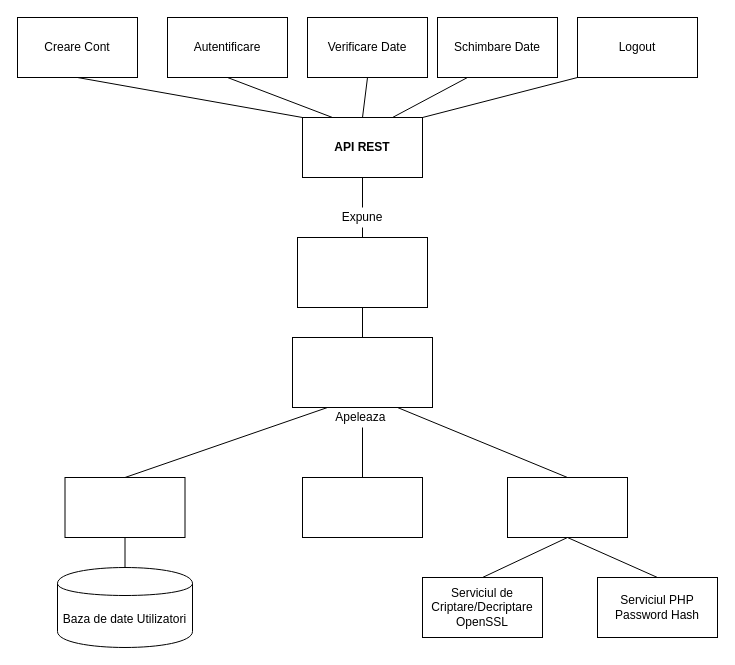
Image size: 735x665. Some labels were removed from this diagram. The centre of each missing label's shape, as x and y in pixels:
AVIAUTH gestioneaza conturi de utilizator: [362,272]
Controller Layer: [362,372]
Serviciu Criptografie: [567,507]
Serviciul FirebaseJWT TOKEN: [362,507]
User DAO: [124,507]
